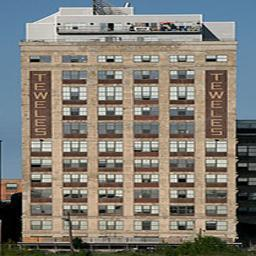building: (21, 2, 238, 256)
